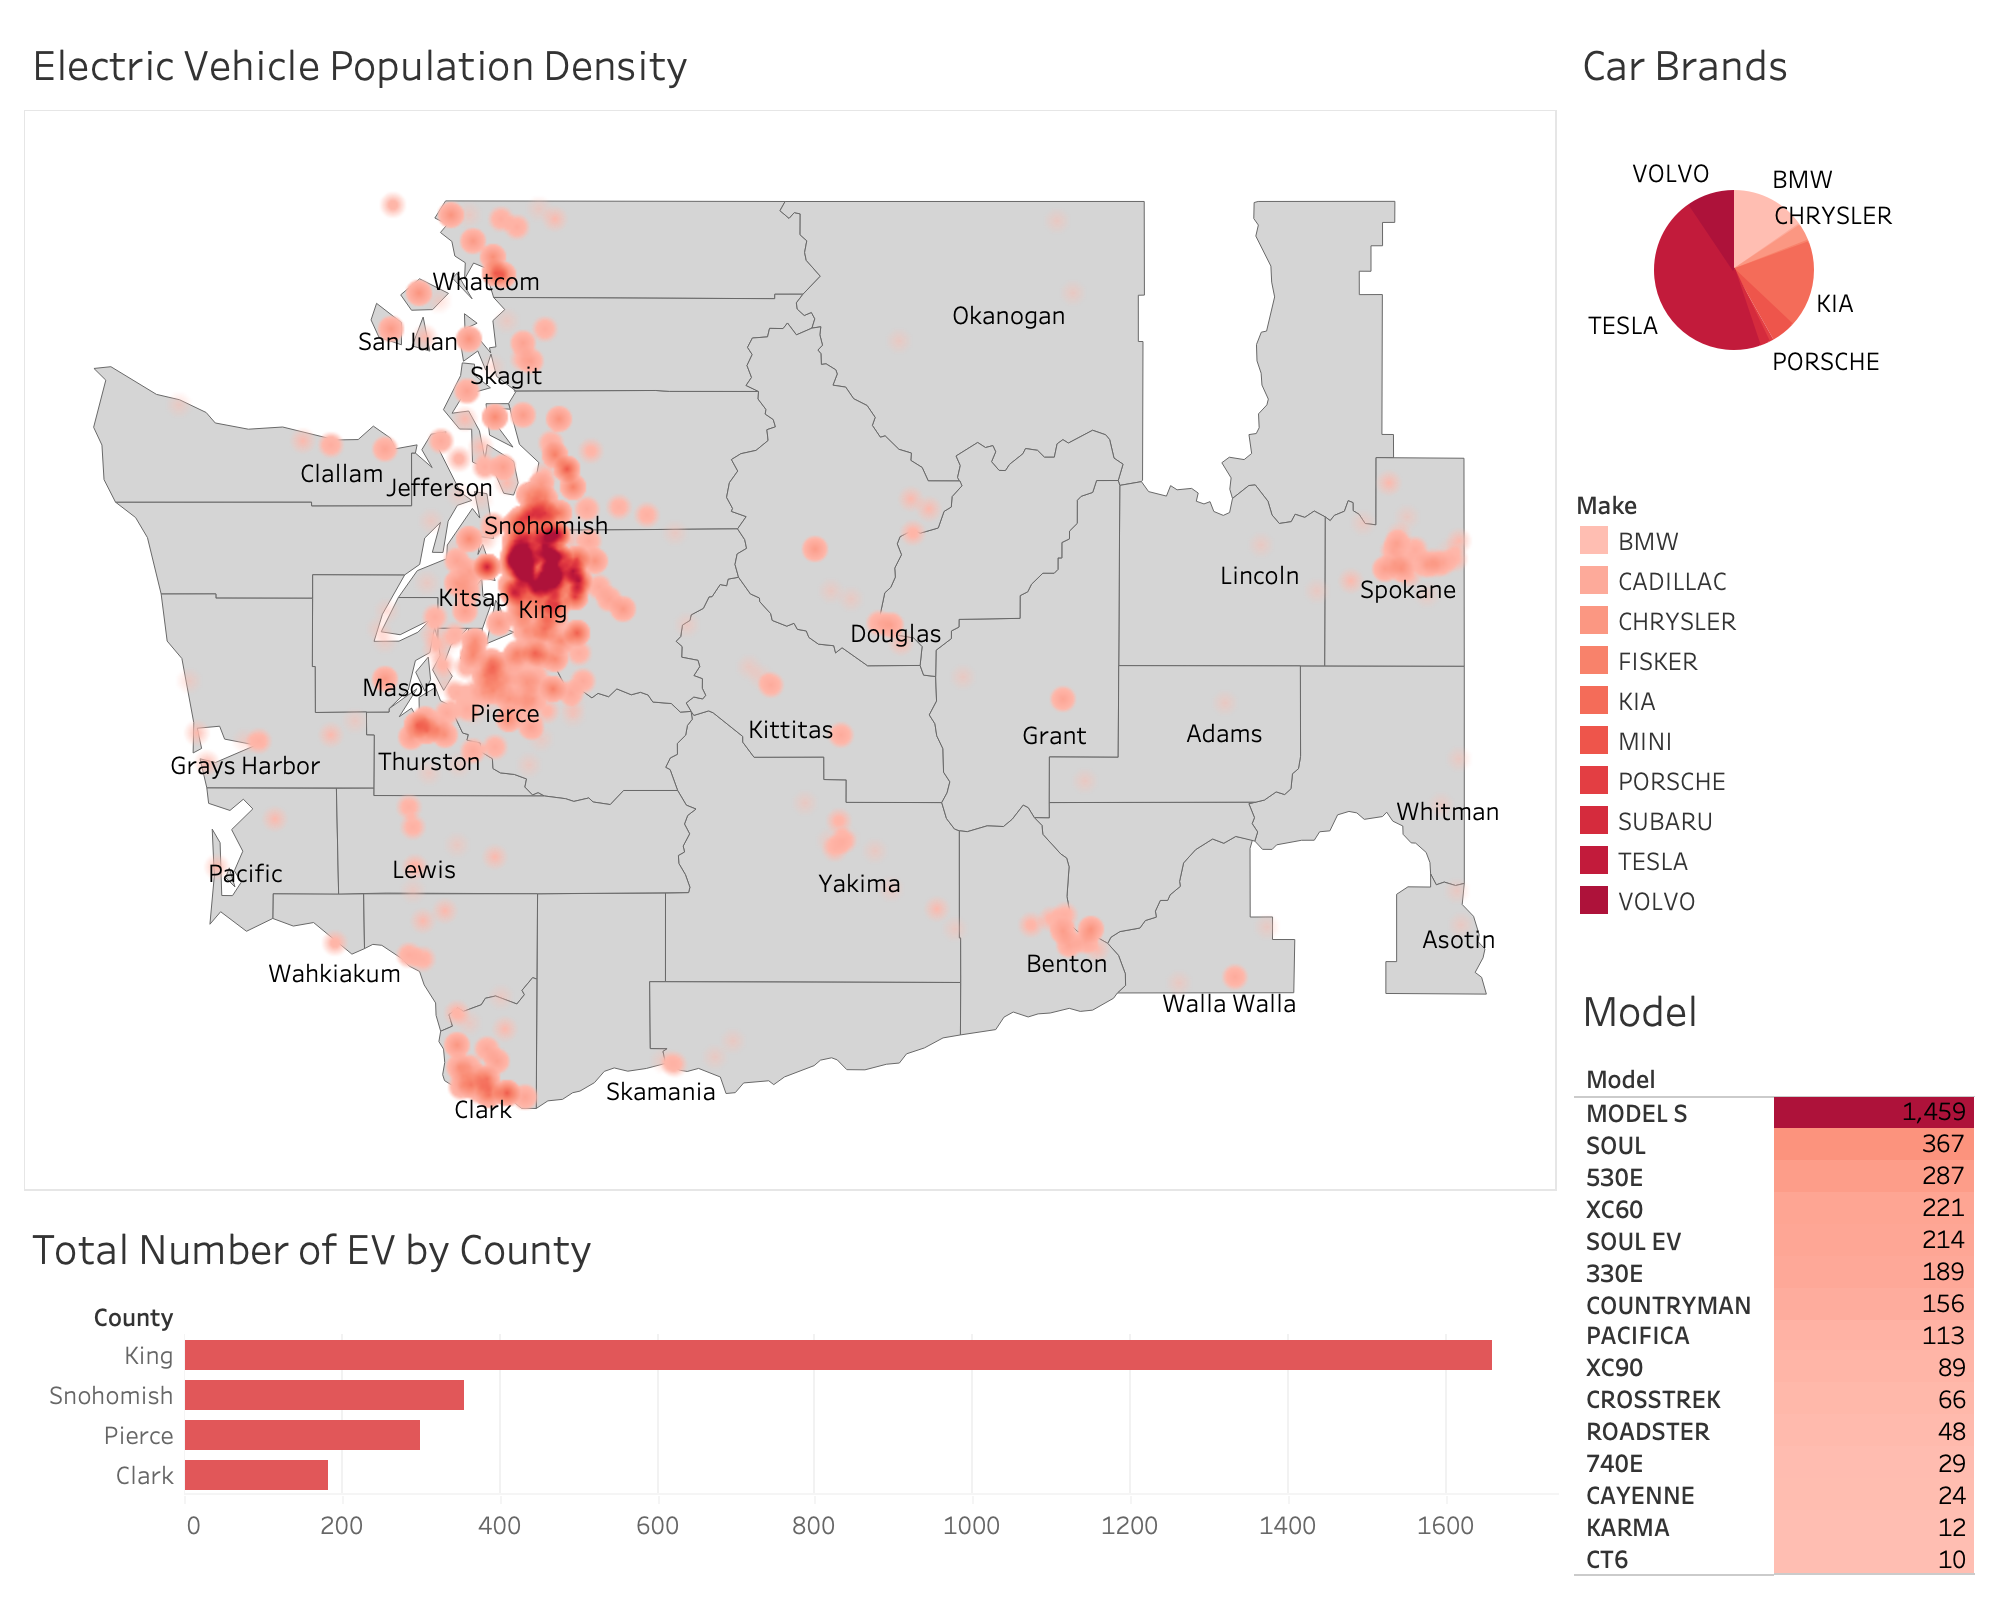

The page's visual inventory and layout, read from the dashboard file:
{"tool":"tableau","page":{"name":"Main","canvas":[1000,800],"ordinal":0},"visuals":[{"type":"worksheet","title":"Density","mark":"Multipolygon","rows":["Calculation_1715801134613893121"],"cols":["Calculation_1715801134613647360"],"box":[8,8,775,592]},{"type":"worksheet","title":"Market Share","mark":"Pie","box":[783,8,209,230]},{"type":"legend","title":"Market Share","param":"[federated.014wa610at3p1e1agj2jm0f7r46k].[none:Make:nk]","box":[783,238,209,243]},{"type":"worksheet","title":"Model","mark":"Square","rows":["Model"],"box":[783,481,209,310.9]},{"type":"worksheet","title":"County","mark":"Automatic","rows":["County"],"cols":["County"],"box":[8,600,775,192]}]}

Visuals, with their boxes in screenshot pixels (x1, y1, x2, y2), scaled from the page's 1000x800 canvas onto the 2000x1600 screenshot:
"Density" worksheet (Multipolygon marks): region(16, 16, 1566, 1200)
"Market Share" worksheet (Pie marks): region(1566, 16, 1984, 476)
"Market Share" legend: region(1566, 476, 1984, 962)
"Model" worksheet (Square marks): region(1566, 962, 1984, 1584)
"County" worksheet: region(16, 1200, 1566, 1584)
